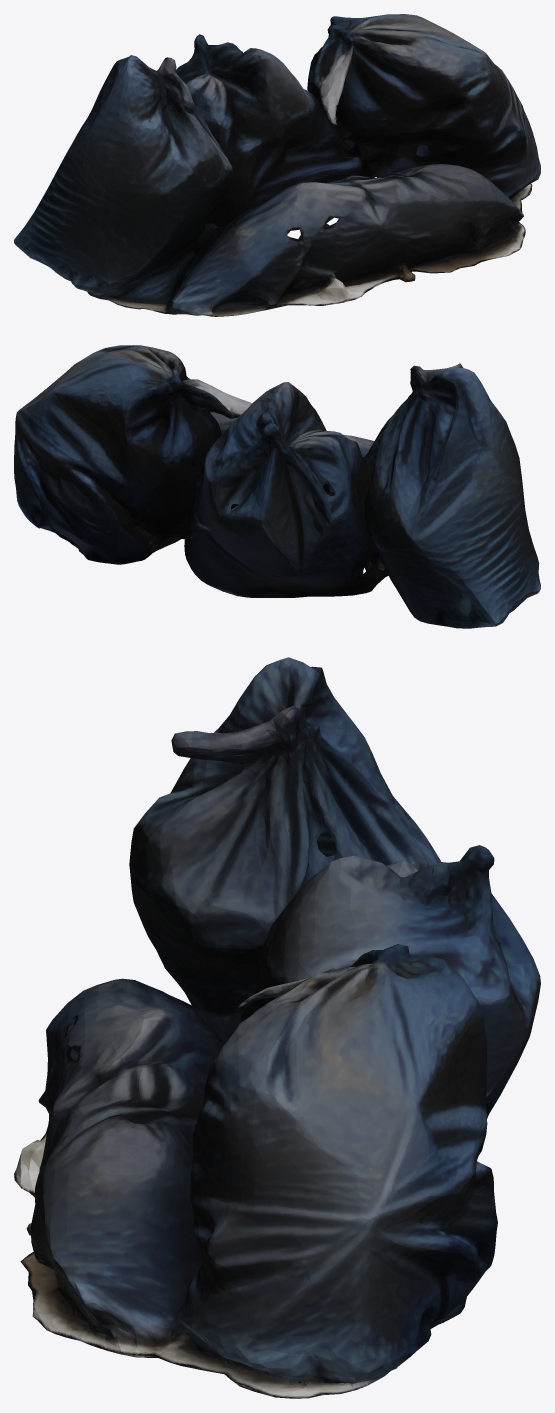
File: Garbage_3.fbx
3 renders of one model, top to bottom at view 1: azimuth 30°, elevation 25°; view 2: azimuth 150°, elevation 25°; view 3: azimuth 270°, elevation 25°, orthographic. The views are drawn at different scales.
Visible parts, largest first — view 1: world.006; view 2: world.006; view 3: world.006.
Part boxes in pixels (x1,y1,x2,y2): world.006: (14,14,540,316); world.006: (14,345,540,628); world.006: (14,657,540,1398).
Size of the model in its own units: 99.69 by 44.49 by 53.28.
